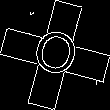O_S: (28, 25, 82, 85)
